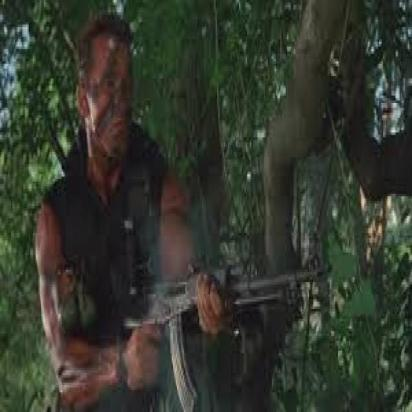Gun: (104, 261, 323, 412)
